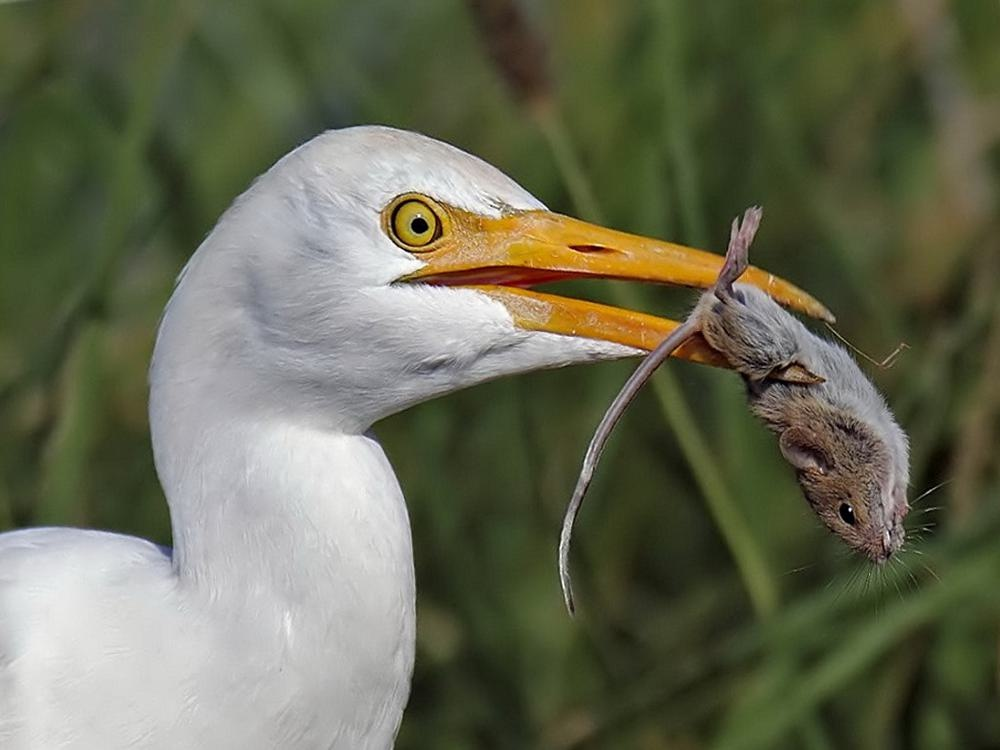egret: (1, 50, 820, 750)
